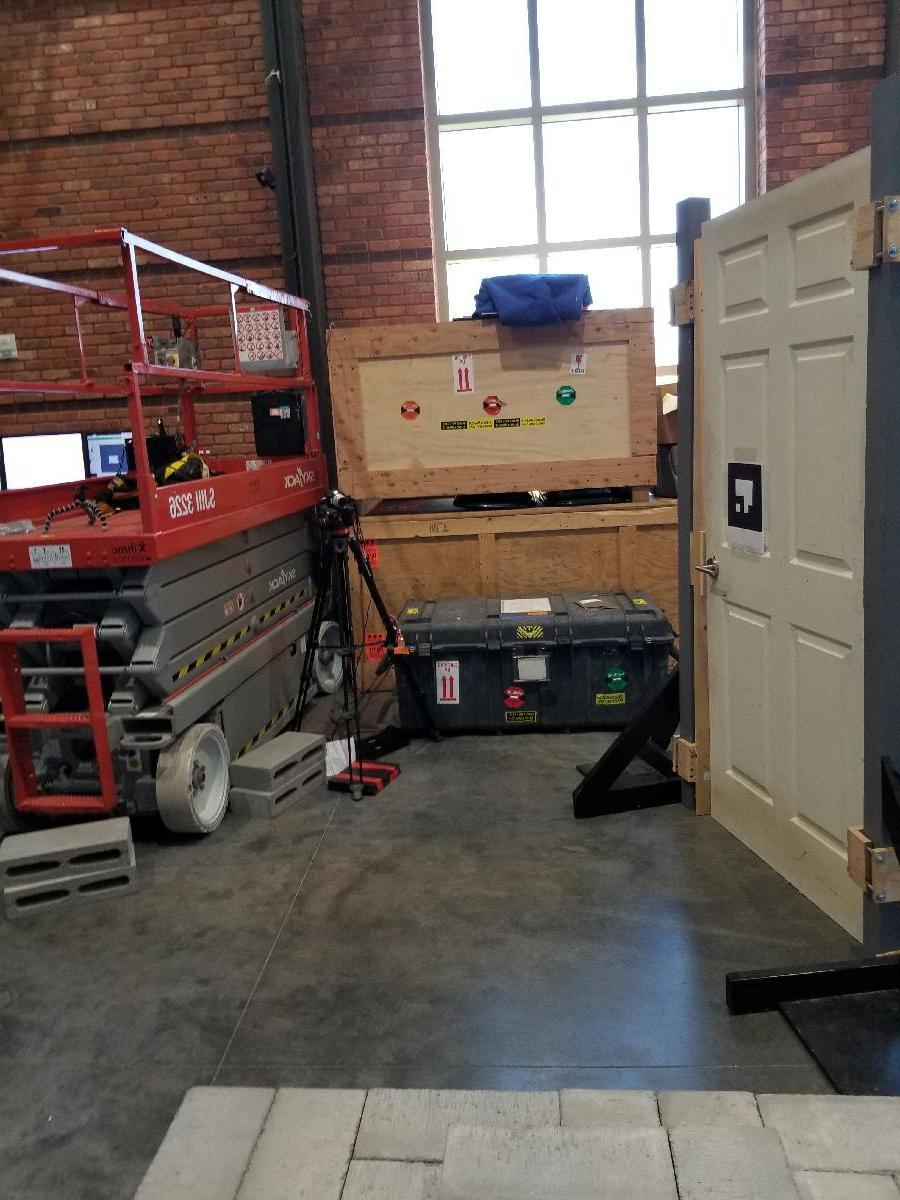door: (692, 143, 874, 935)
handle: (694, 551, 724, 584)
